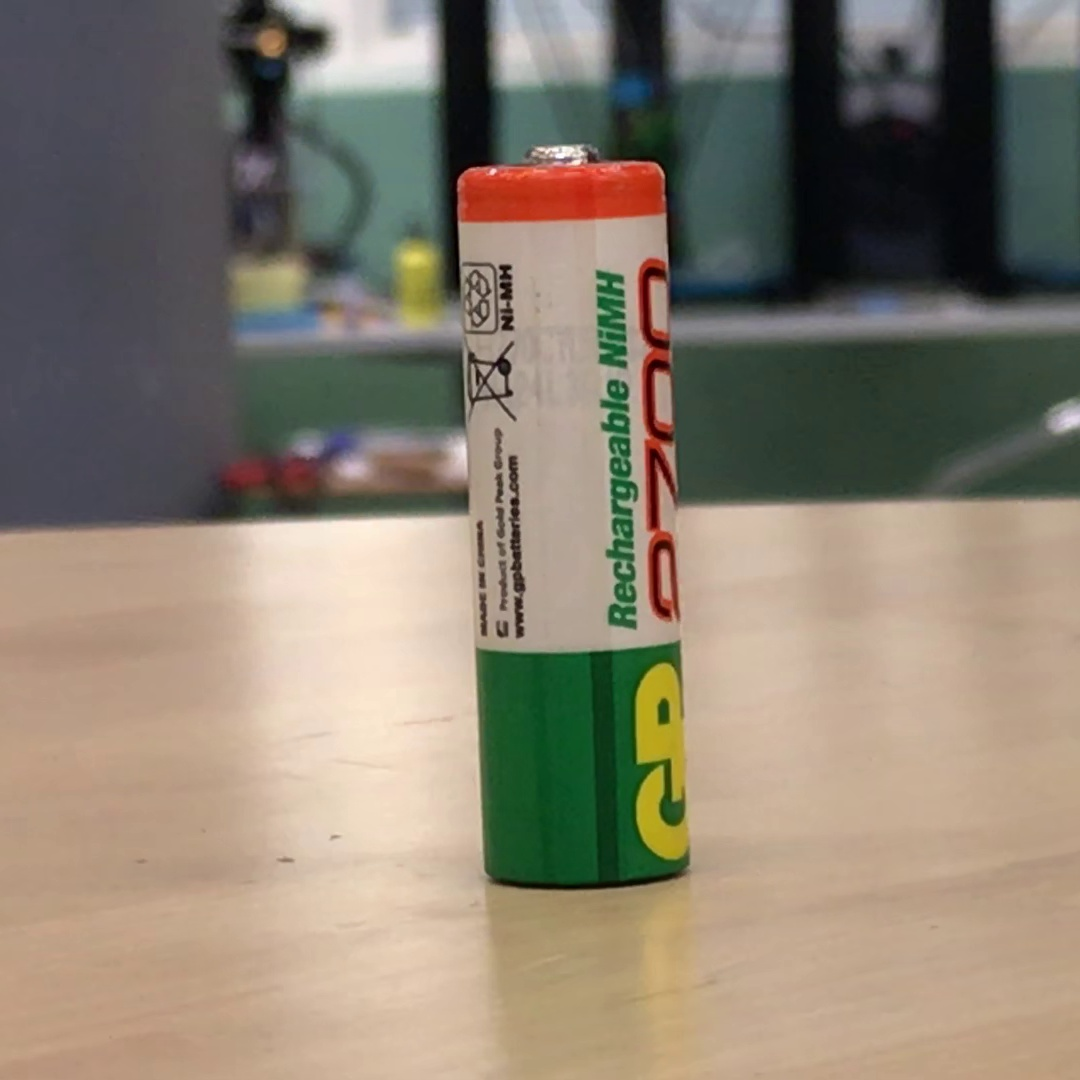keyword: (586, 261, 637, 379)
